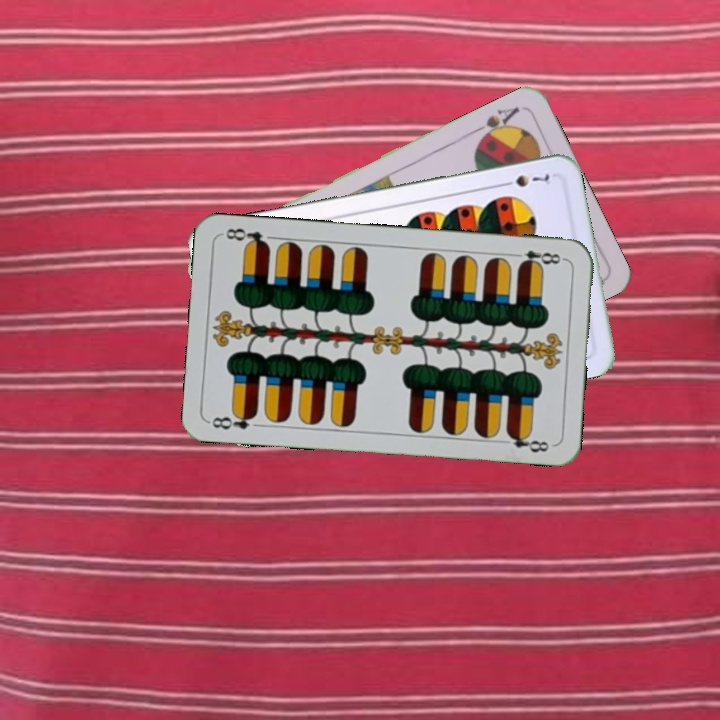E8: (508, 246, 568, 270), (206, 408, 260, 433)
S7: (496, 170, 553, 190)
SA: (469, 102, 522, 145)
